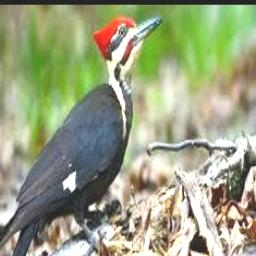Woodpecker: (0, 16, 162, 256)
